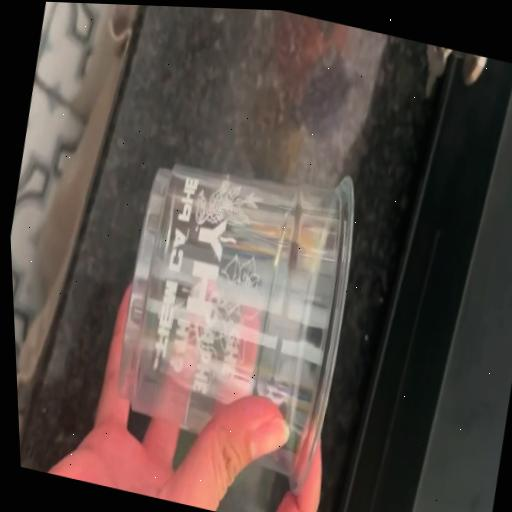Ly_giay: (119, 165, 352, 492)
ly_nhua: (119, 165, 353, 492)
